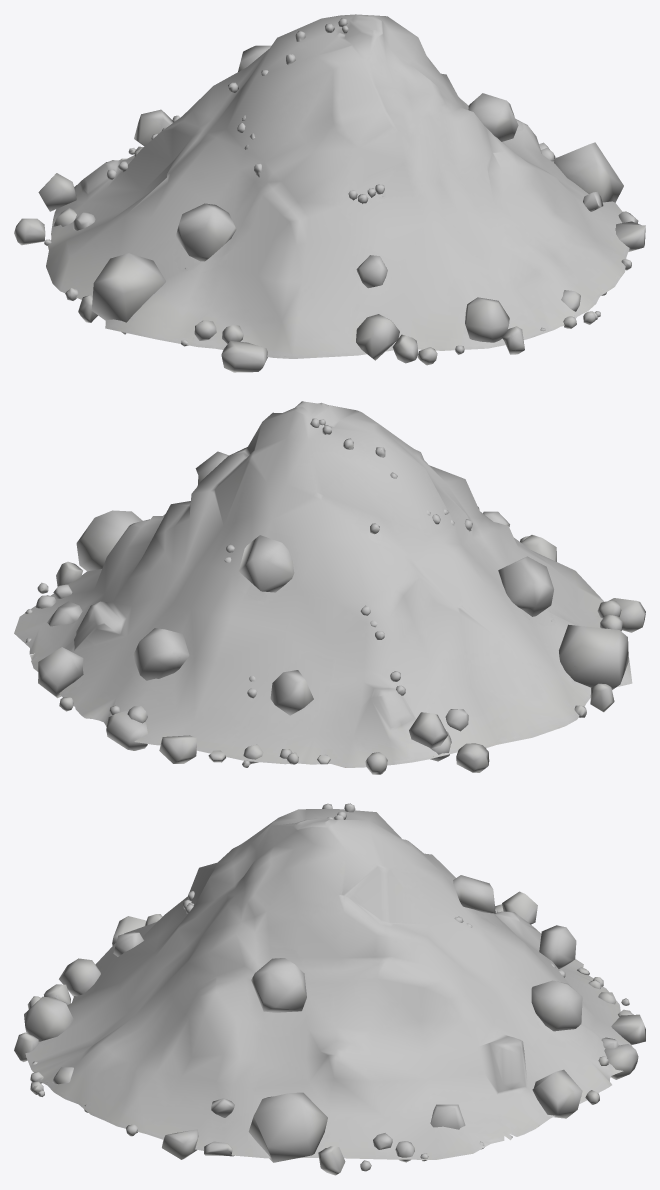
The model's file is snow.glb.
3 views of the same model, one above another, from view 1: azimuth 30°, elevation 25°; view 2: azimuth 150°, elevation 25°; view 3: azimuth 270°, elevation 25° (orthographic). The views are drawn at different scales.
Visible parts, largest first — view 1: tripo_node_9bd2af22-92f2-4c61-9f1f-ad85382712ed; view 2: tripo_node_9bd2af22-92f2-4c61-9f1f-ad85382712ed; view 3: tripo_node_9bd2af22-92f2-4c61-9f1f-ad85382712ed.
Boxes of the visible parts, bbox=[...] form: tripo_node_9bd2af22-92f2-4c61-9f1f-ad85382712ed: bbox=[14, 14, 645, 372]; tripo_node_9bd2af22-92f2-4c61-9f1f-ad85382712ed: bbox=[14, 401, 645, 774]; tripo_node_9bd2af22-92f2-4c61-9f1f-ad85382712ed: bbox=[14, 803, 645, 1175].
Bounding box in the file's own units: 0.998 × 0.4199 × 0.9941.
Materials: 1 (1 with a texture image).
